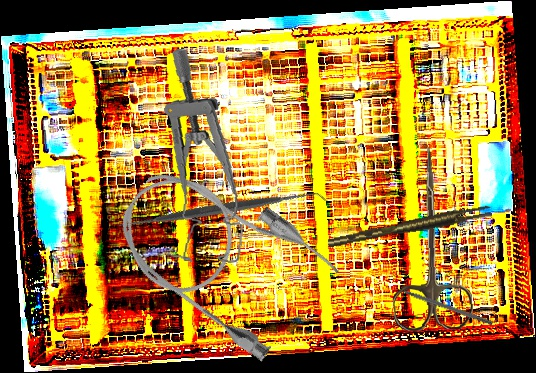Cannula: (99, 141, 346, 369)
Hook Surgical: (386, 282, 494, 326)
Iris Scissors: (385, 145, 474, 332)
Spatula Surgical: (110, 100, 328, 319)
Speculum: (148, 48, 262, 267)
Tissue Forceps: (326, 204, 493, 248)
